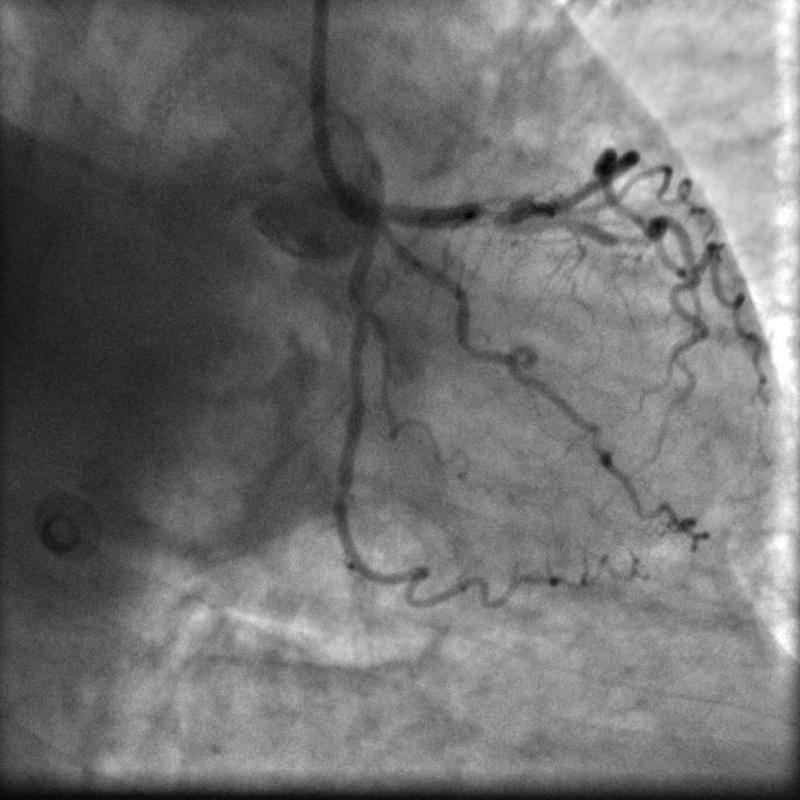Stenosis: (469, 197, 524, 231)
